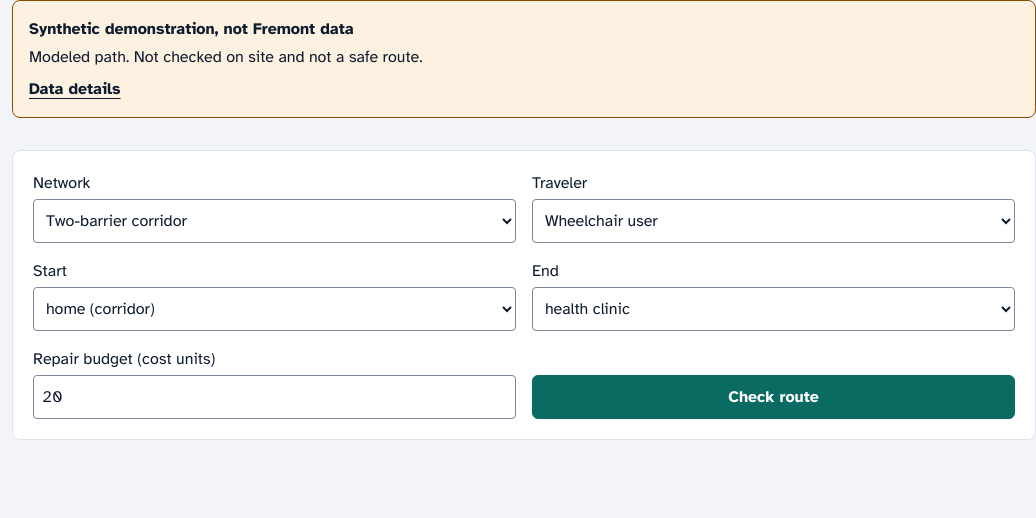
Test: explains a not-found start or end instead of showing an empty result
This screenshot has width=1036, height=518.
expect the dropdown labelled "Start" is shown: met, box left=33, top=287, right=516, bottom=331
Click the button "Check route": [774, 397] box left=532, top=375, right=1015, bottom=419
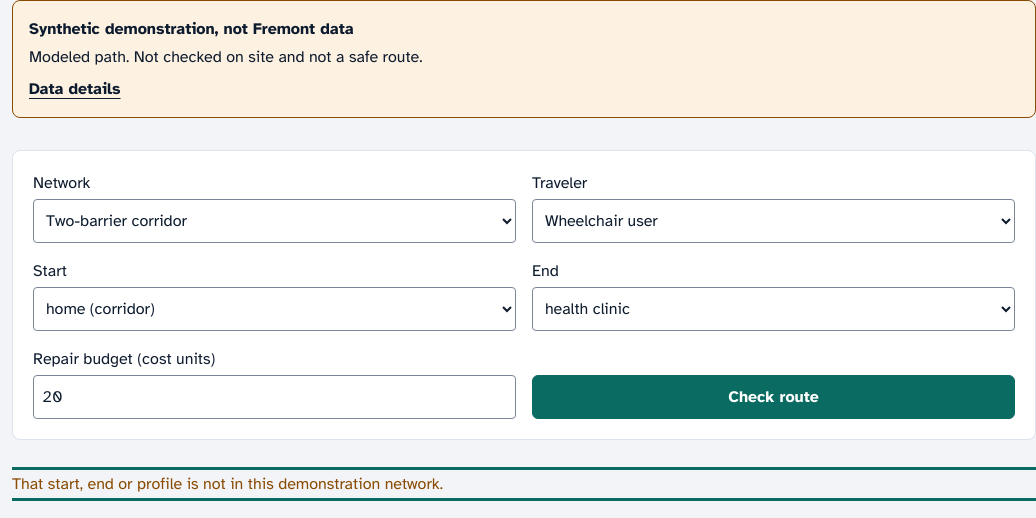
expect the text "That start, end or profile is not in this demonstration network." is shown: met, box left=12, top=474, right=443, bottom=494
